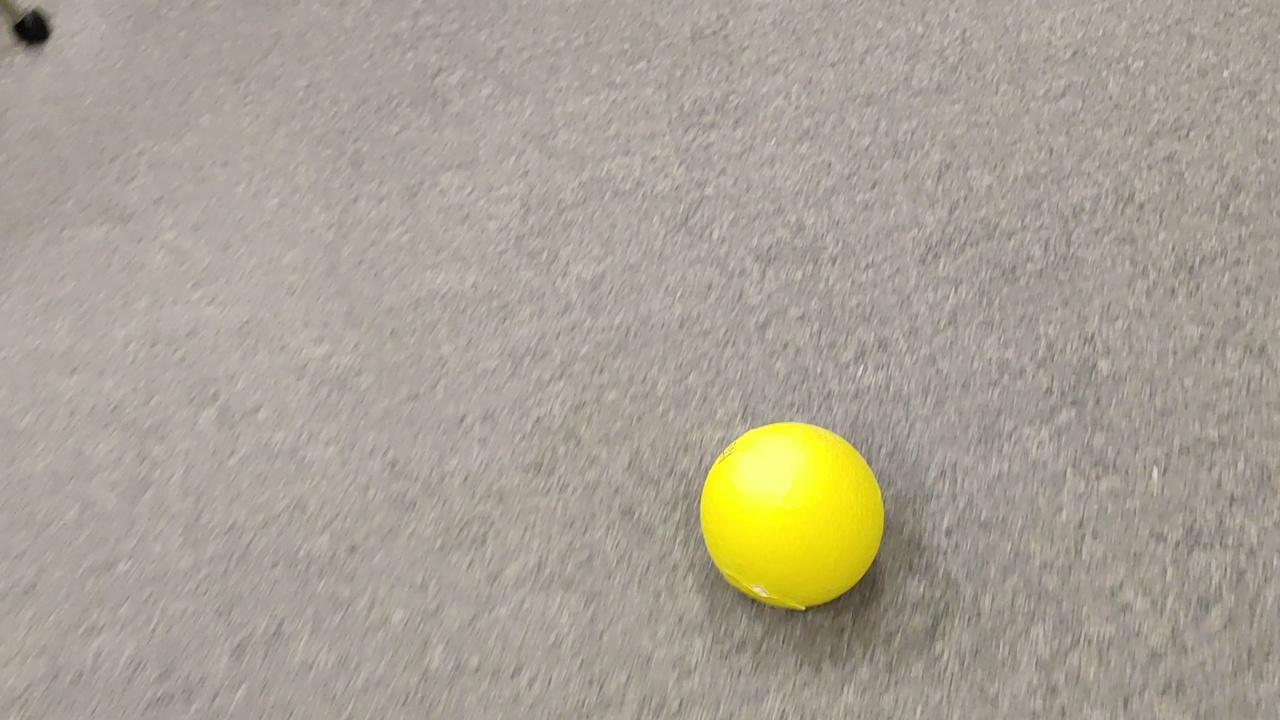Ball: (700, 421, 887, 614)
